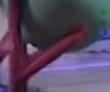algae: (1, 0, 110, 52)
